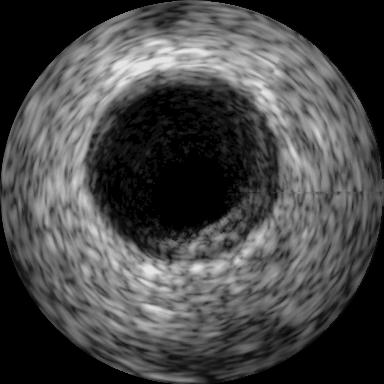Lumen: (153, 145, 238, 237)
